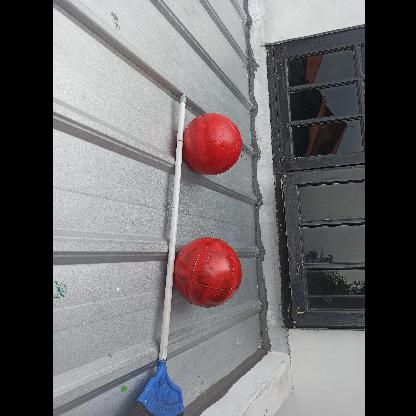red_ball: (174, 236, 244, 306), (180, 112, 242, 174)
